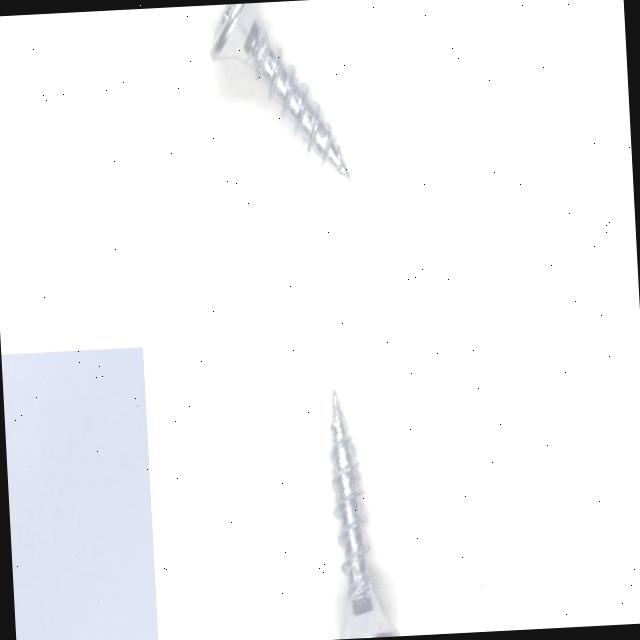Screw: (210, 3, 350, 179), (330, 388, 401, 639)
